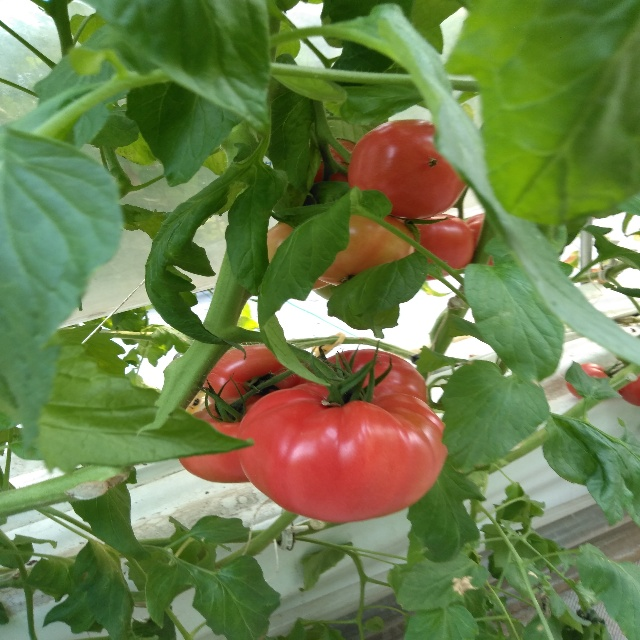b_fully_ripened: (237, 384, 449, 523), (347, 119, 467, 219), (177, 396, 263, 484), (296, 349, 427, 403), (204, 344, 300, 403), (392, 214, 474, 281)
